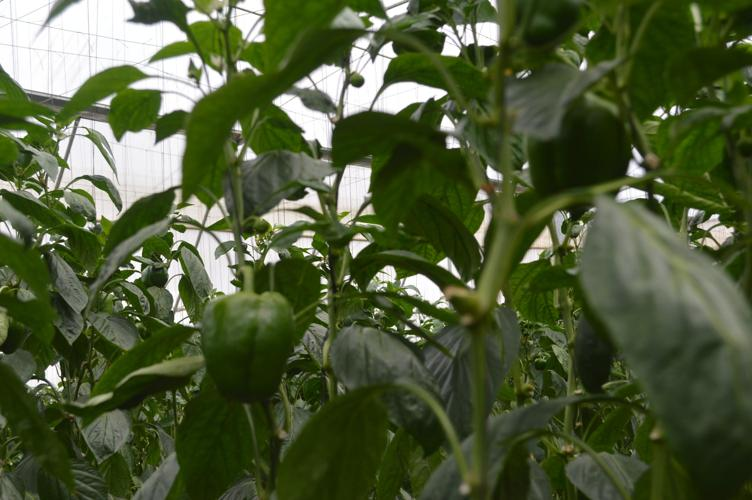BellPepper: (192, 282, 299, 409)
